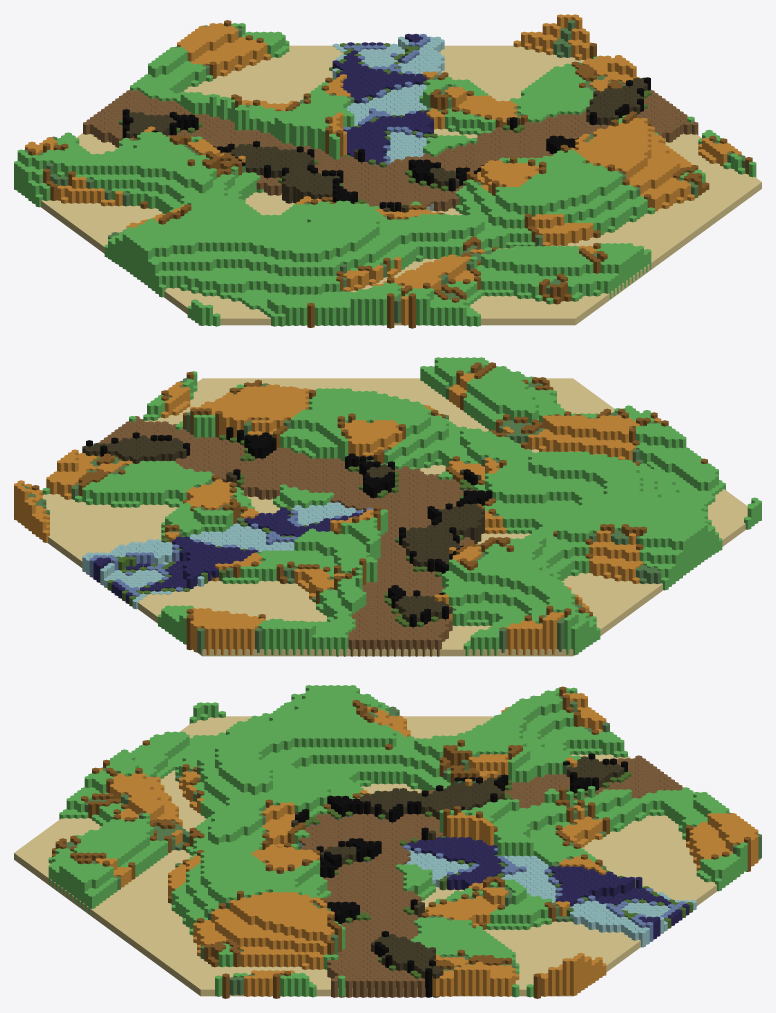
Rendered from 0024_tile_1221012.fbx.
3 views of the same model, one above another, from view 1: azimuth 30°, elevation 25°; view 2: azimuth 150°, elevation 25°; view 3: azimuth 270°, elevation 25° (orthographic).
Visible parts, largest first — view 1: Plane; view 2: Plane; view 3: Plane.
Part boxes in pixels (x1,y1,x2,y2): Plane: (14, 14, 761, 328); Plane: (14, 357, 761, 656); Plane: (14, 685, 761, 998).
Bounding box in the file's own units: 1008 × 71.43 × 1152.
